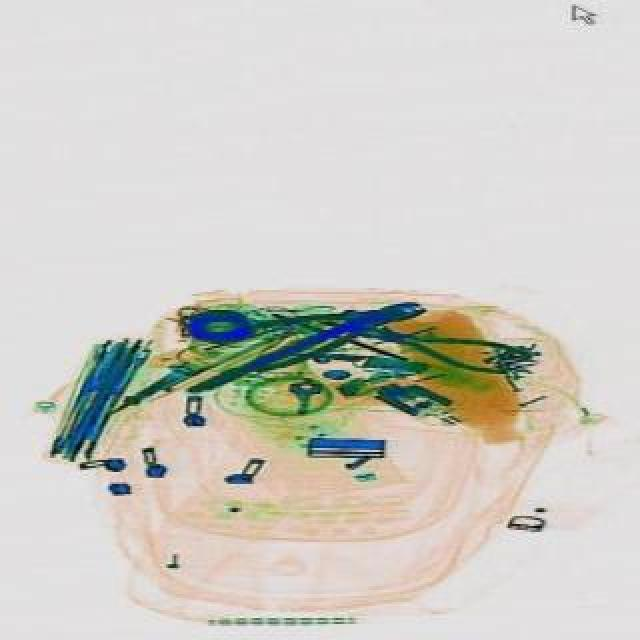wrench: (234, 280, 430, 376), (312, 302, 524, 382)
